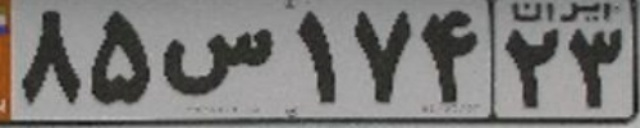1: (295, 11, 337, 101)
2: (505, 26, 557, 108)
3: (565, 28, 621, 107)
4: (422, 10, 477, 104)
5: (93, 10, 153, 102)
7: (353, 10, 410, 102)
8: (23, 10, 81, 103)
sin: (161, 28, 274, 94)
